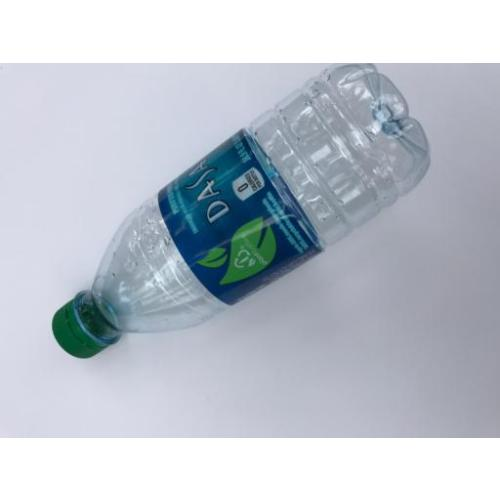plastic: (52, 61, 430, 363)
